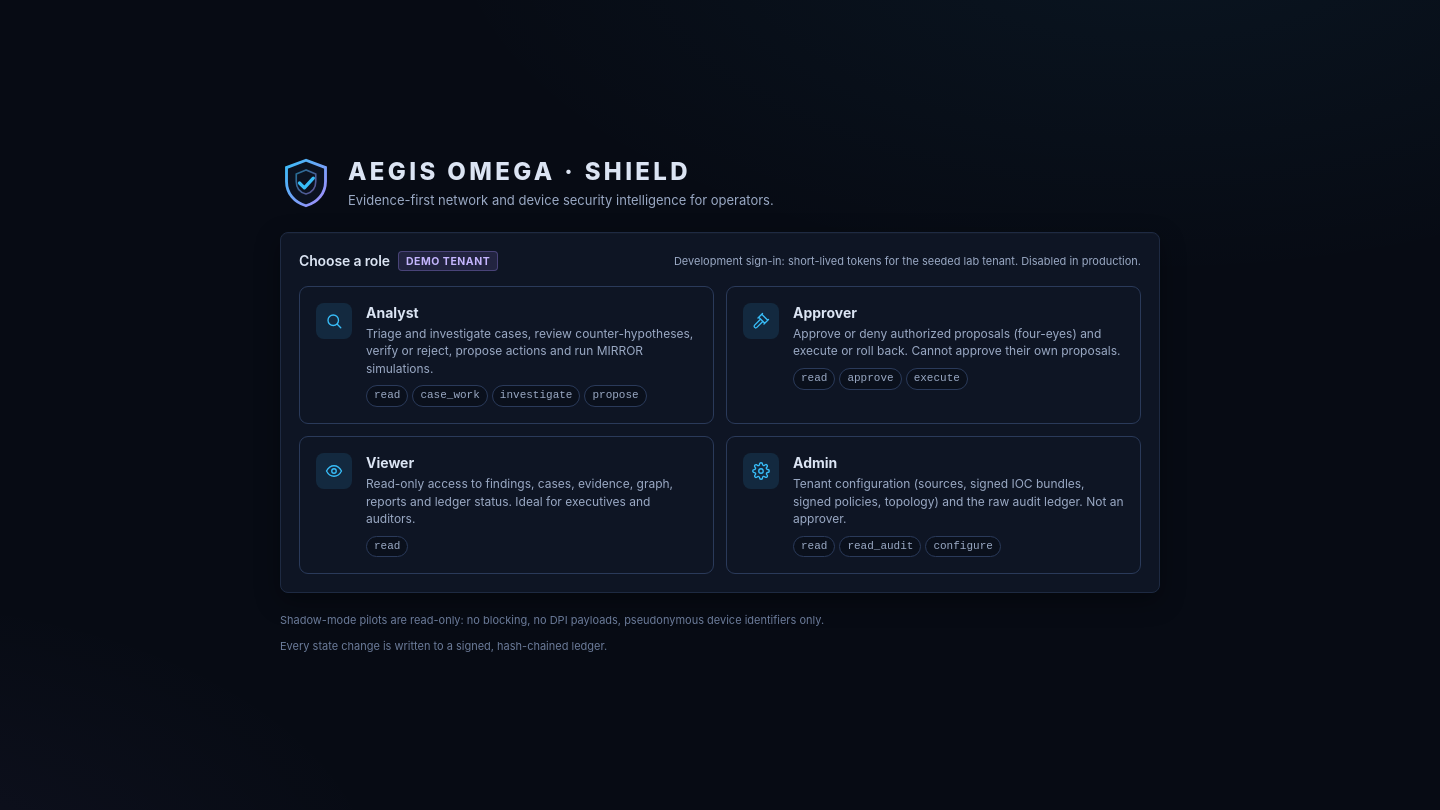
console › redirects to the role picker and signs in with a demo token
Click the button with test id "role-analyst" at (506, 355), box [299,286,714,424]
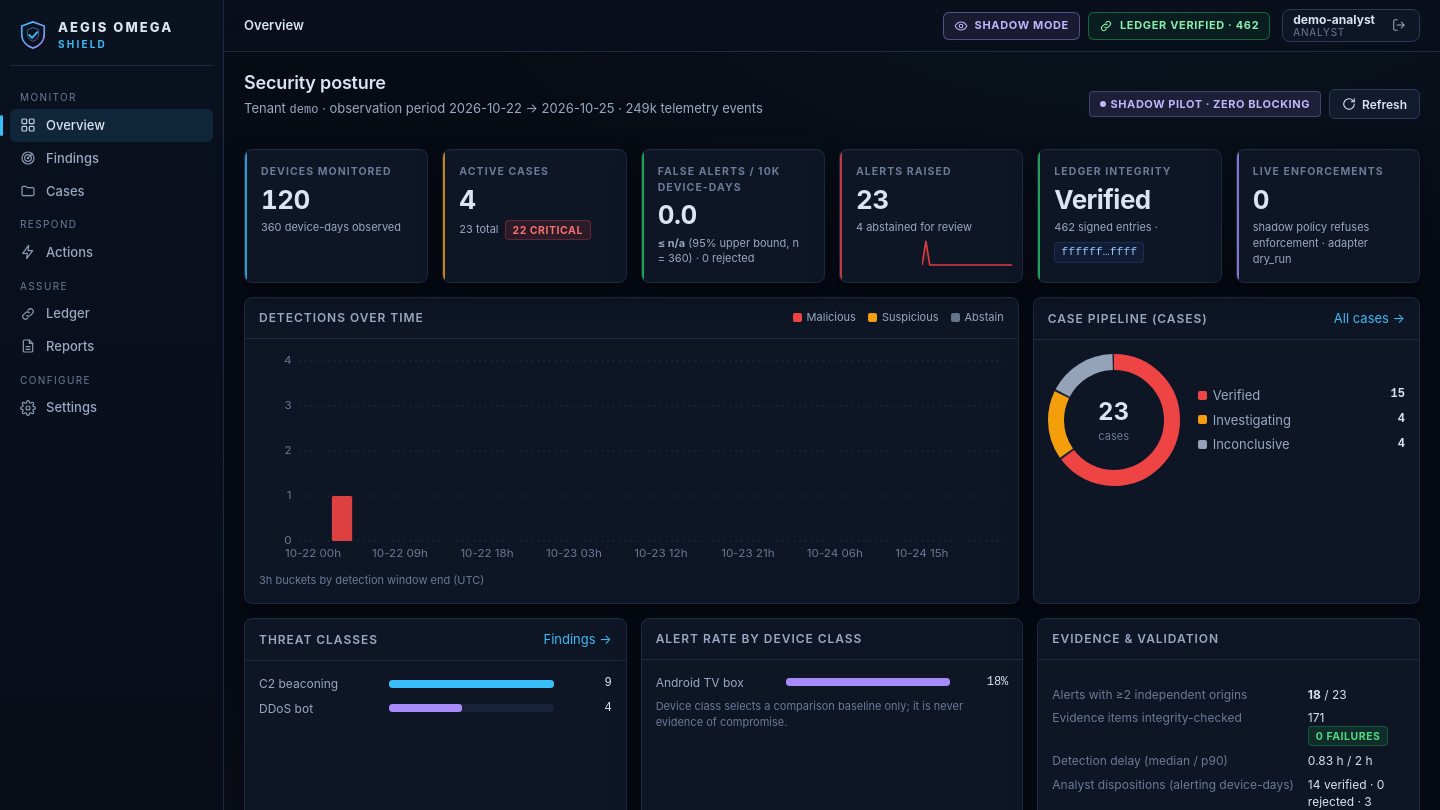
Expected: the element with test id "kpi-devices" shows "120", [261,184,310,215]
Expected: the element with test id "mode-pill" reads "Shadow mode", [974,18,1069,32]
Expected: the link with test id "ledger-pill" shows "Ledger verified", [1088,12,1270,40]
